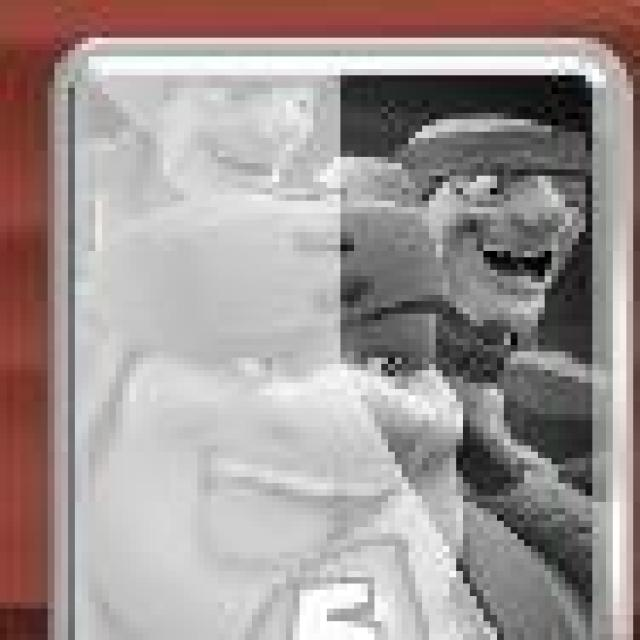Goblin_Giant: (57, 38, 638, 640)
